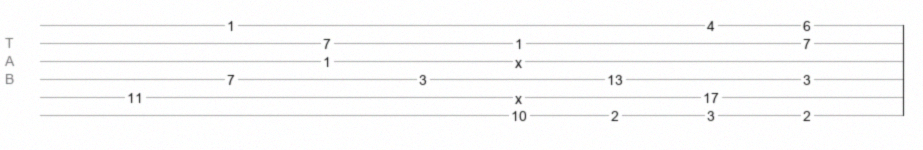1: (227, 18, 235, 28), (323, 54, 331, 64), (515, 36, 523, 46)
10: (511, 108, 527, 118)
11: (127, 90, 143, 100)
13: (607, 72, 623, 82)
17: (703, 90, 719, 100)
2: (611, 108, 619, 118), (803, 108, 811, 118)
3: (419, 72, 427, 82), (707, 108, 715, 118), (803, 72, 811, 82)
4: (707, 18, 715, 28)
6: (803, 18, 811, 28)
7: (227, 72, 235, 82), (323, 36, 331, 46), (803, 36, 811, 46)
x: (515, 55, 522, 63), (515, 91, 522, 99)
